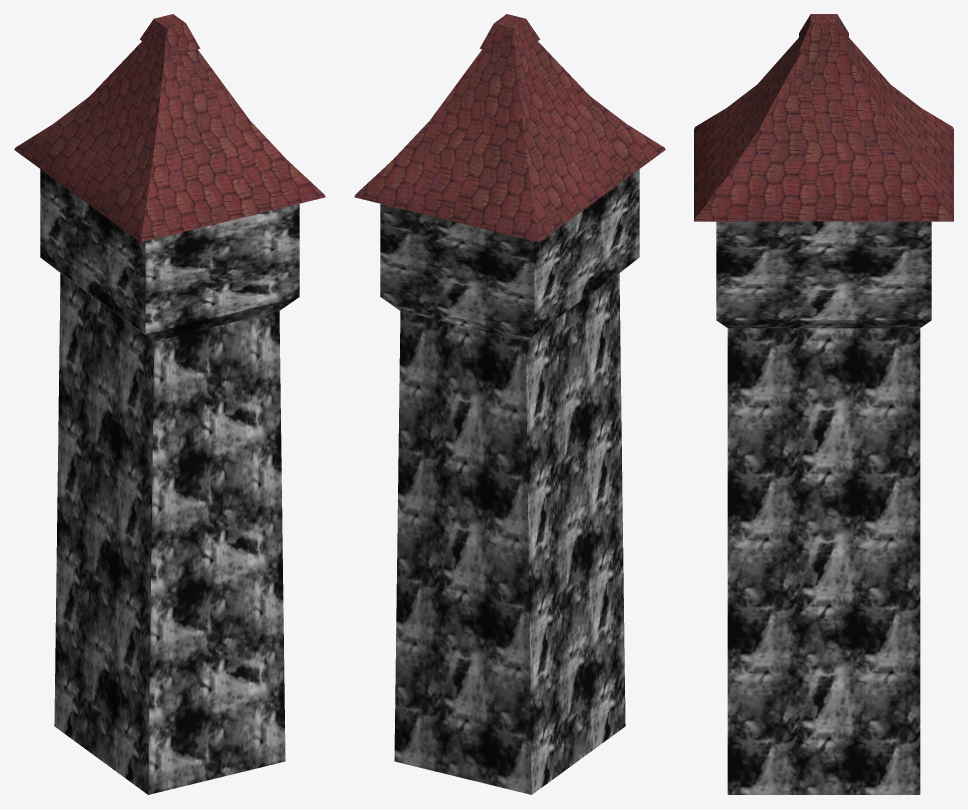
File: SM_Tower_01.fbx
3 renders of one model, left to right at view 1: azimuth 30°, elevation 25°; view 2: azimuth 150°, elevation 25°; view 3: azimuth 270°, elevation 25°, orthographic. The views are drawn at different scales.
Parts seen in each view (by area): view 1: SM_Tower_01_LOD0; view 2: SM_Tower_01_LOD0; view 3: SM_Tower_01_LOD0.
Part boxes in pixels (<box>): SM_Tower_01_LOD0: <box>14,14,325,794</box>; SM_Tower_01_LOD0: <box>354,14,665,794</box>; SM_Tower_01_LOD0: <box>694,14,953,794</box>.
Bounding box in the file's own units: 787 × 932 × 2937.
2 materials, 2 textured.
